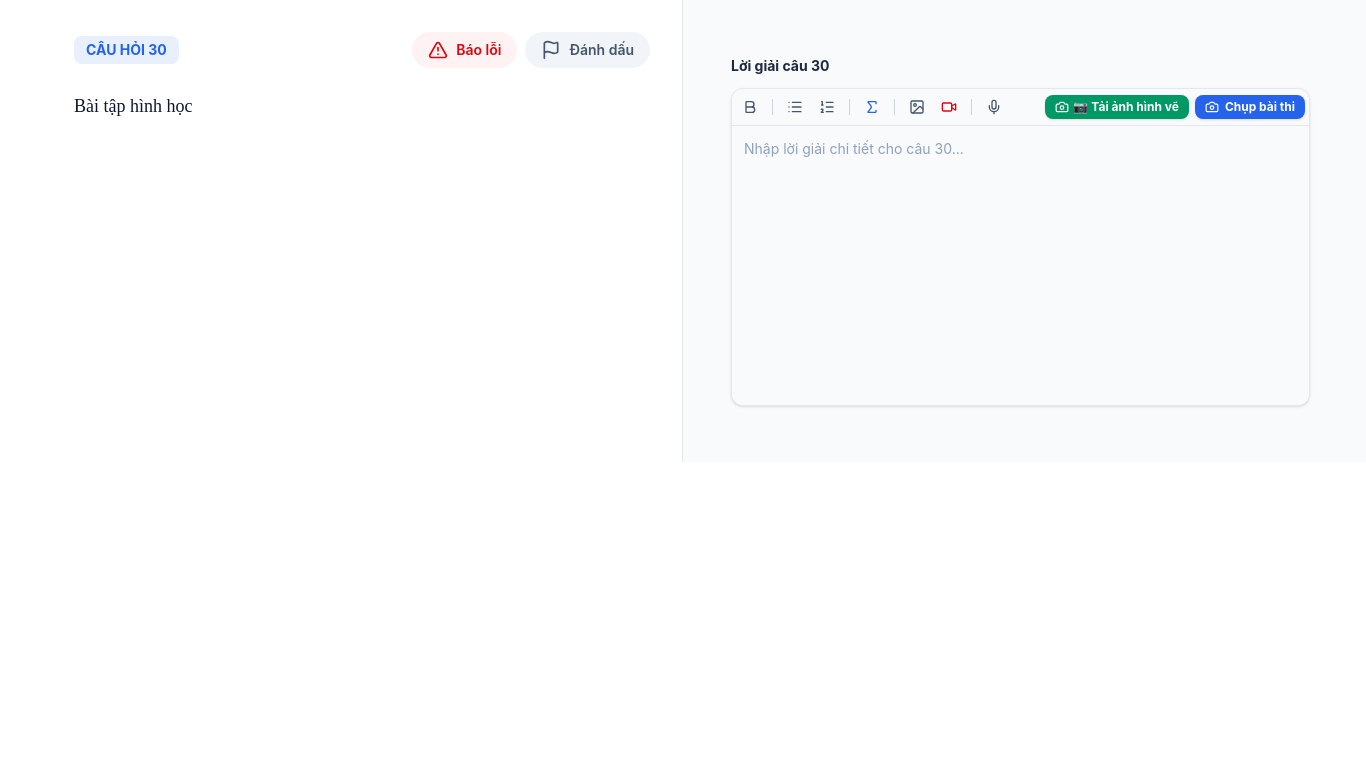
EssayQuestion Component › opens InAppCameraModal when clicking camera on mobile device
Click the button "Chụp bài thi" at {"x": 1250, "y": 107}, box [1195,95,1305,119]
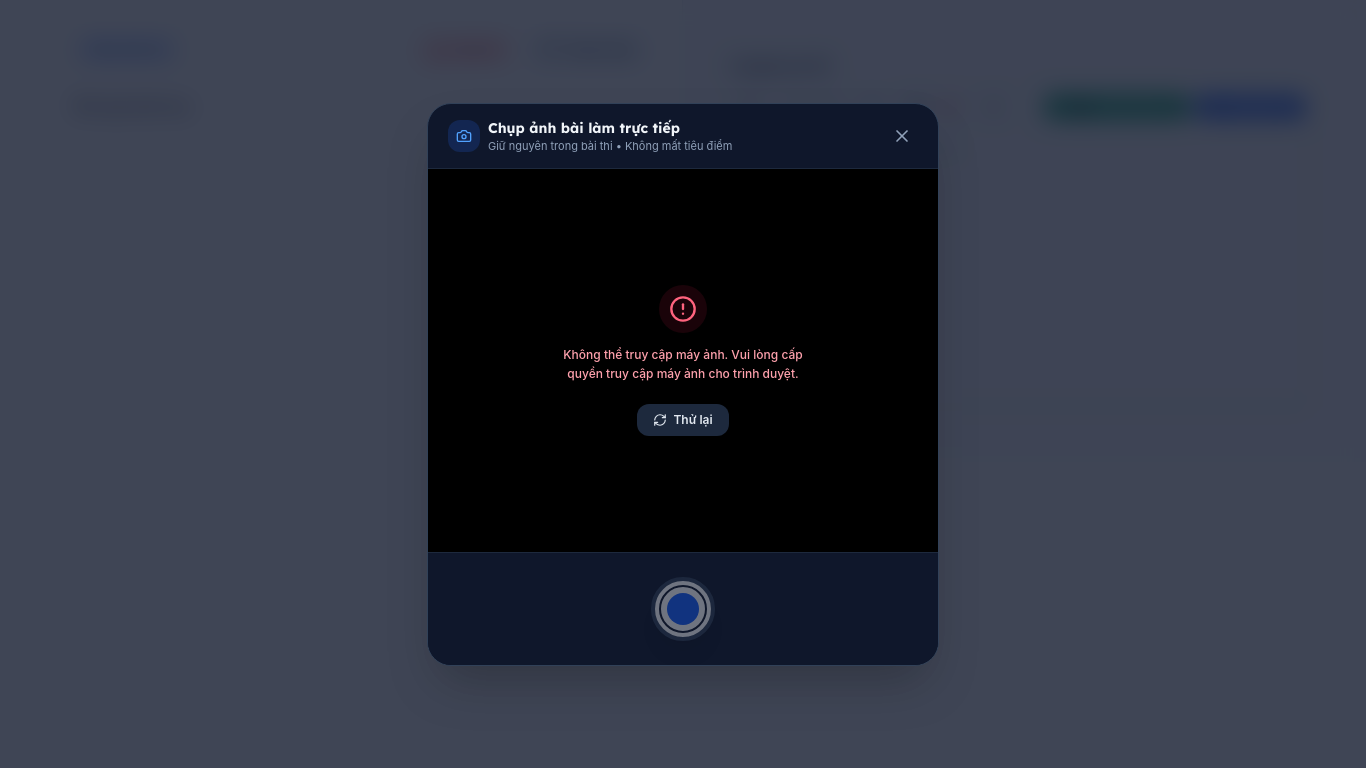
Now the heading "Chụp ảnh bài làm trực tiếp" is shown, box [488,118,680,136]
